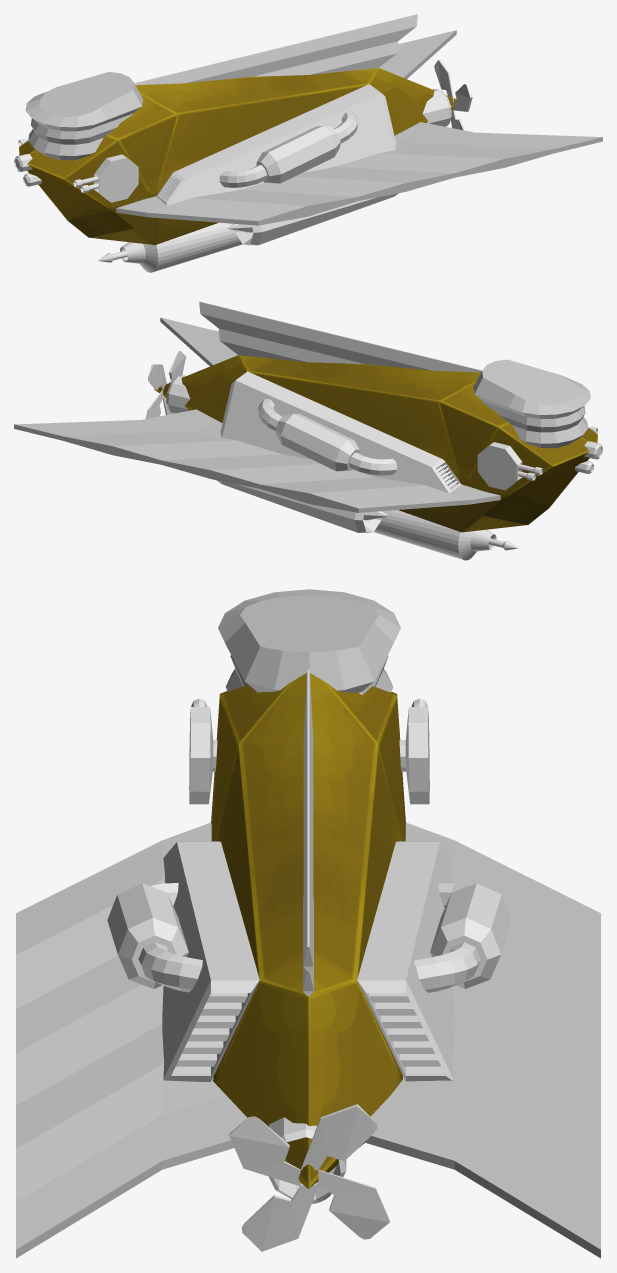
File: Submarine (5).fbx
The picture shows the model from 3 angles, top to bottom: view 1: azimuth 30°, elevation 25°; view 2: azimuth 150°, elevation 25°; view 3: azimuth 270°, elevation 25°; orthographic projection. The views are drawn at different scales.
Parts seen in each view (by area): view 1: Base, Wings, Sidetrim, Back Fin, Cockpit, O2 Tank, Harpoon Gun, Engines, Turret, Propellor.001, Propellor; view 2: Base, Wings, Sidetrim, Back Fin, Cockpit, O2 Tank, Harpoon Gun, Engines, Turret, Propellor.001, Propellor; view 3: Wings, Base, Sidetrim, Cockpit, O2 Tank, Propellor.001, Turret, Back Fin, Propellor.
Boxes of the visible parts, <box> form: Base: <box>19,68,456,244</box>; Wings: <box>116,30,602,225</box>; Sidetrim: <box>156,84,396,205</box>; Back Fin: <box>134,14,417,85</box>; Cockpit: <box>25,72,143,160</box>; O2 Tank: <box>219,111,357,187</box>; Harpoon Gun: <box>120,222,242,272</box>; Engines: <box>227,193,398,245</box>; Turret: <box>94,154,138,202</box>; Propellor.001: <box>434,59,472,130</box>; Propellor: <box>422,89,451,126</box>; Base: <box>154,355,597,532</box>; Wings: <box>14,317,500,512</box>; Sidetrim: <box>220,371,461,493</box>; Back Fin: <box>199,301,482,372</box>; Cockpit: <box>473,359,590,448</box>; O2 Tank: <box>258,399,397,475</box>; Harpoon Gun: <box>374,510,496,560</box>; Engines: <box>217,480,388,532</box>; Turret: <box>477,442,522,490</box>; Propellor.001: <box>145,351,186,418</box>; Propellor: <box>166,375,189,413</box>; Wings: <box>16,822,600,1258</box>; Base: <box>211,673,405,1188</box>; Sidetrim: <box>162,841,454,1081</box>; Cockpit: <box>218,589,400,695</box>; O2 Tank: <box>107,883,511,992</box>; Propellor.001: <box>229,1104,389,1251</box>; Turret: <box>189,707,429,804</box>; Back Fin: <box>303,669,313,996</box>; Propellor: <box>269,1117,346,1201</box>.
Size of the model in its own units: 2428 by 895 by 1200.
